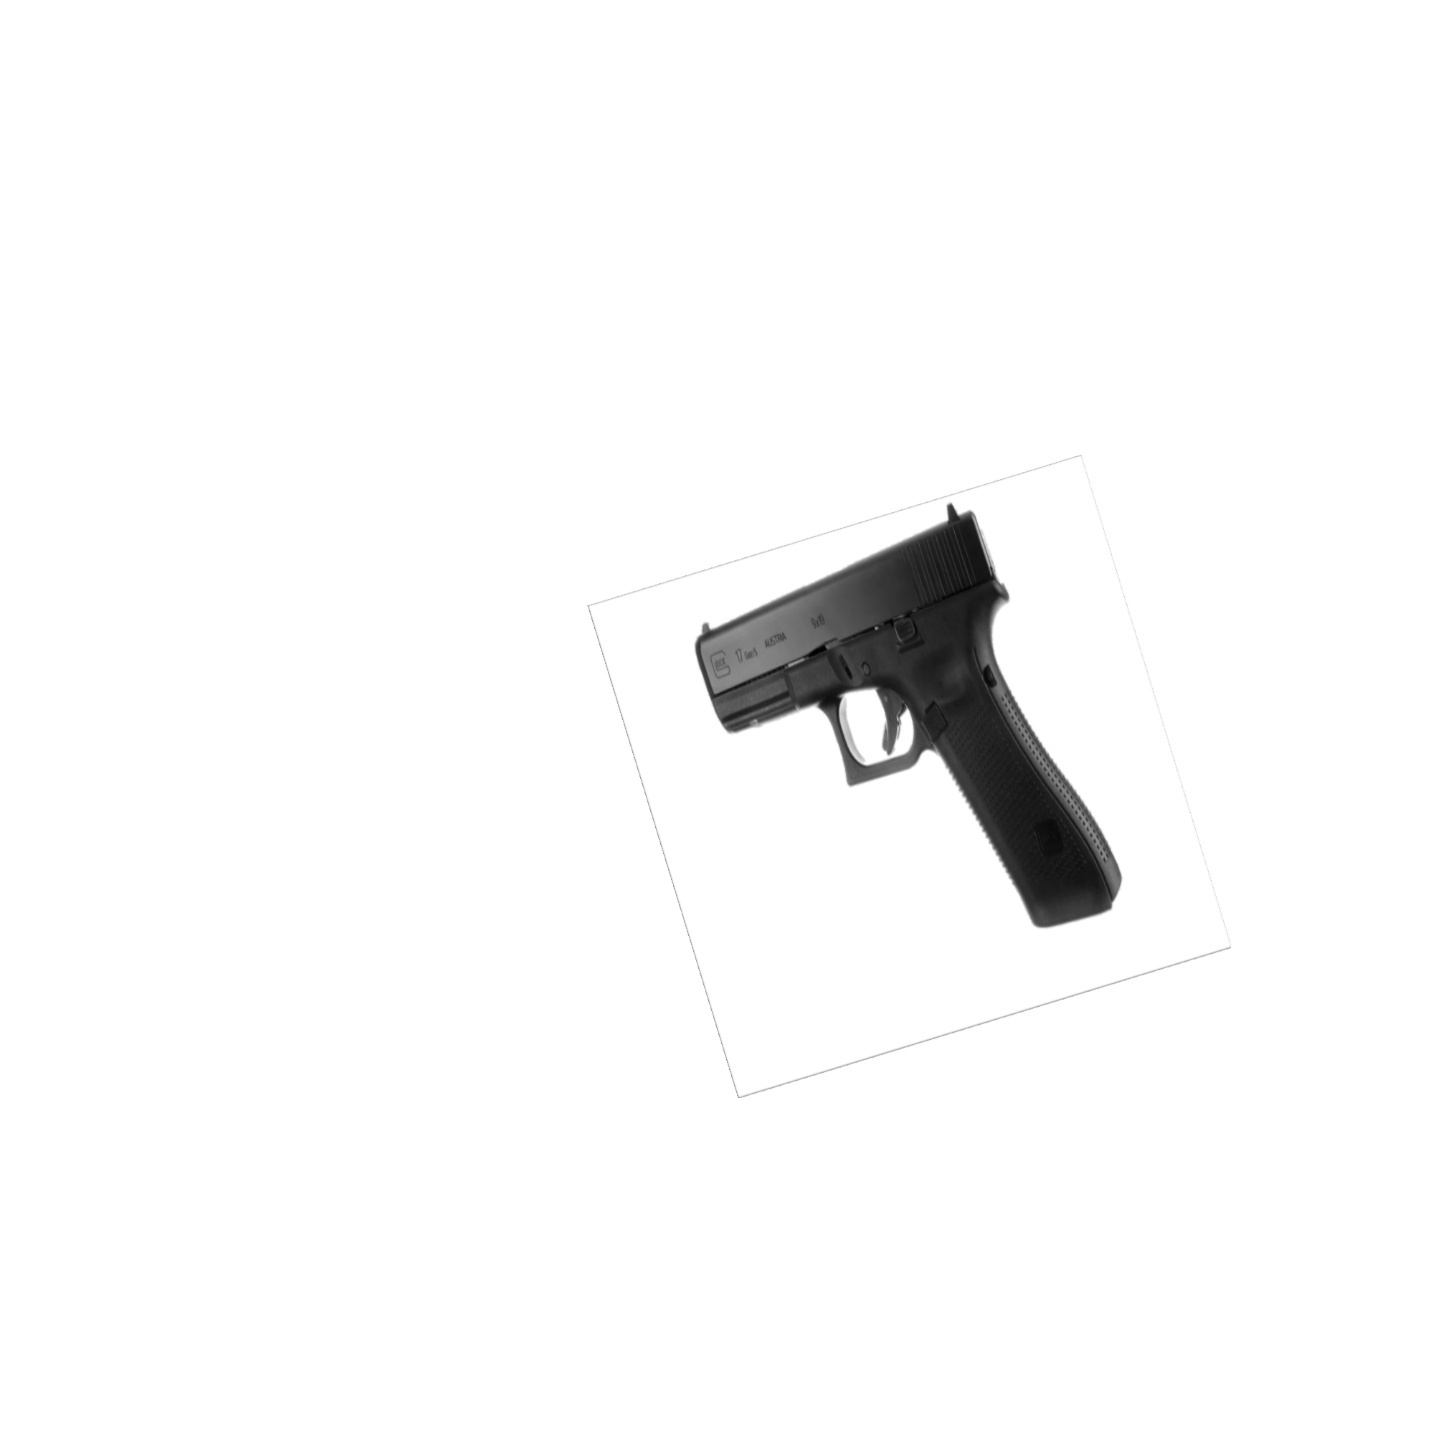gun: (695, 503, 1126, 934)
